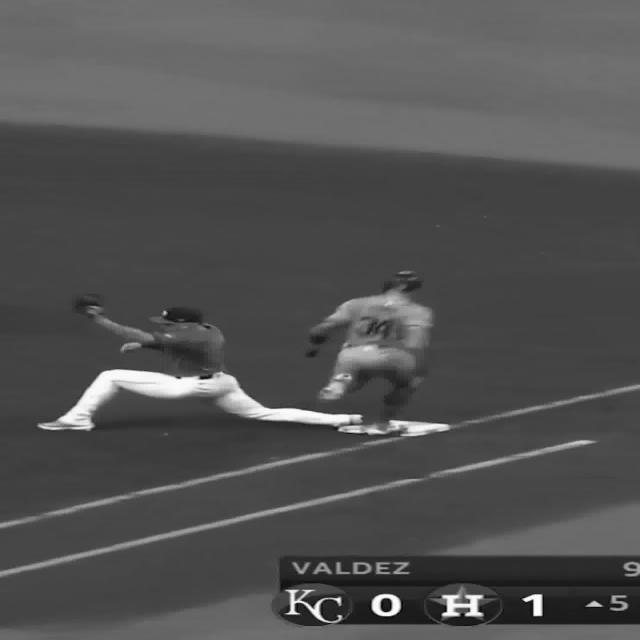base: (361, 422, 450, 436)
baseball_glove: (72, 293, 103, 318)
shoe: (317, 373, 351, 400), (36, 418, 95, 431), (331, 413, 363, 428)
